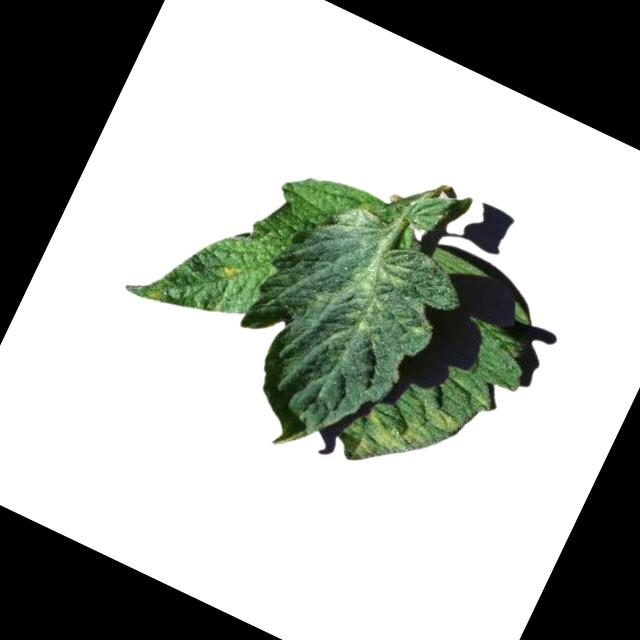Leaf_Mold: (345, 400, 437, 487), (320, 195, 380, 249), (420, 401, 468, 441), (210, 254, 247, 287), (142, 283, 170, 307)
